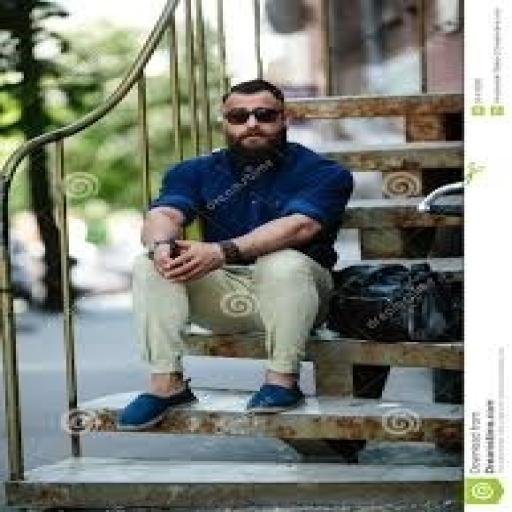sitting: (112, 76, 356, 430)
